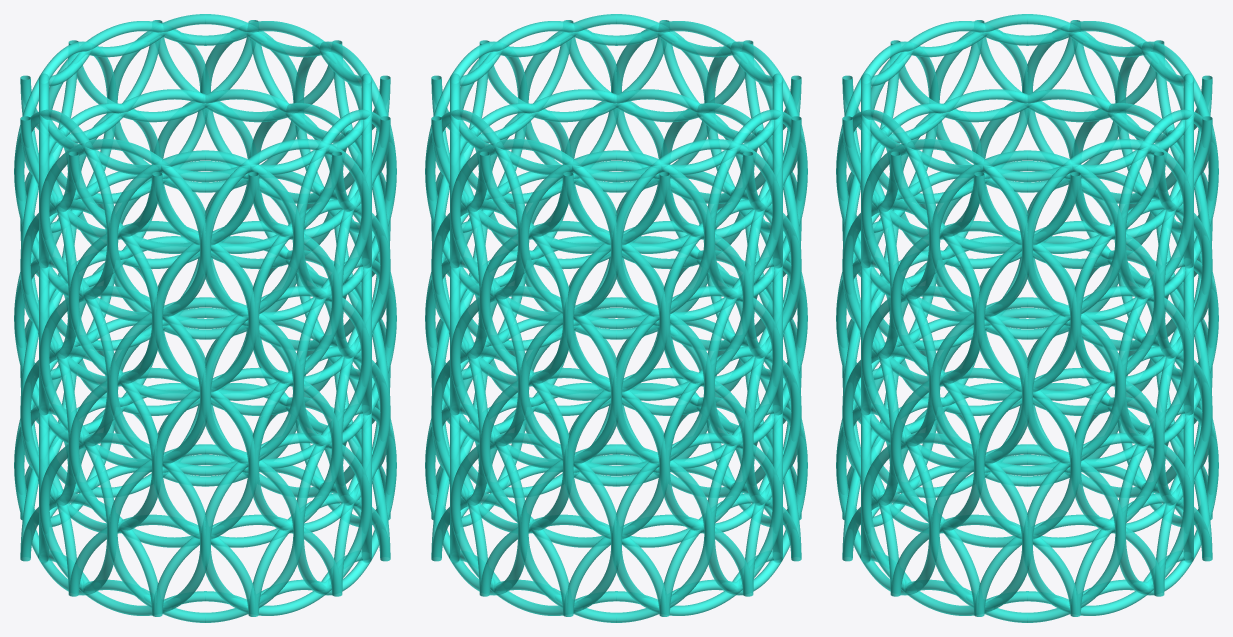
File: flower-vr-floweroflife_v4.glb
The picture shows the model from 3 angles, left to right: view 1: azimuth 30°, elevation 25°; view 2: azimuth 150°, elevation 25°; view 3: azimuth 270°, elevation 25°; orthographic projection.
Bounding box in the file's own units: 7.71 × 10.48 × 7.71.
